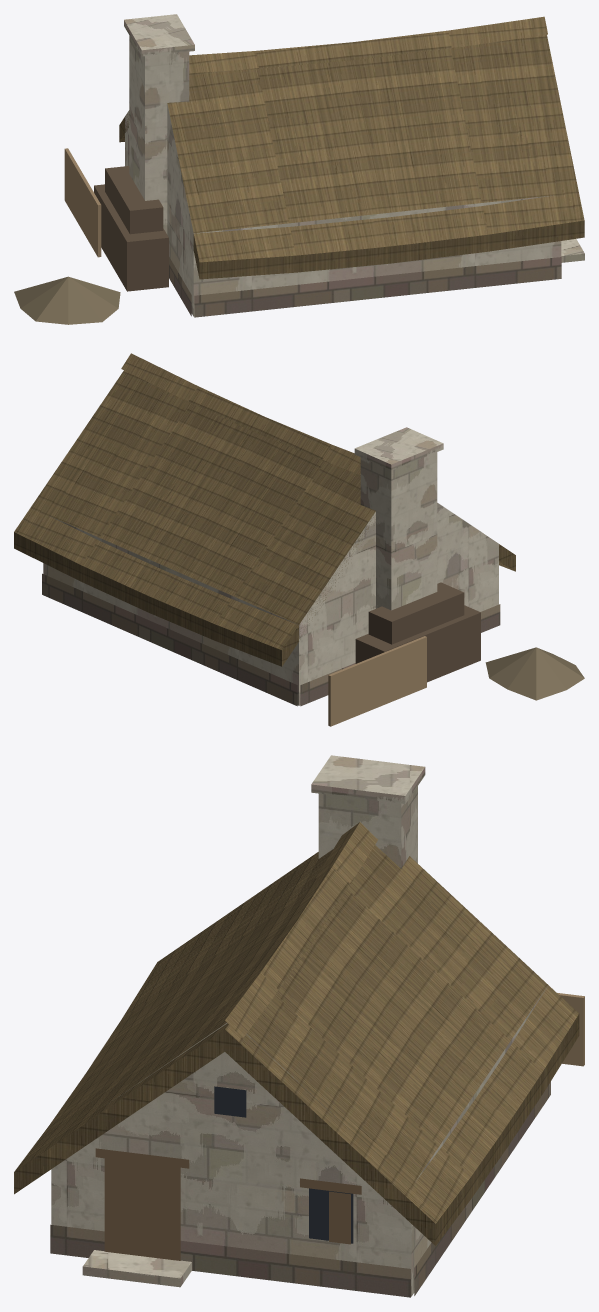
3 renders of one model, top to bottom at view 1: azimuth 30°, elevation 25°; view 2: azimuth 150°, elevation 25°; view 3: azimuth 270°, elevation 25°, orthographic. The views are drawn at different scales.
Parts seen in each view (by area): view 1: b001086_thatch, b001086_wall, b001086_base, b001086_peat, b001086_dung, b001086_wood; view 2: b001086_thatch, b001086_wall, b001086_peat, b001086_base, b001086_wood, b001086_dung; view 3: b001086_thatch, b001086_wall, b001086_base, b001086_oak, b001086_glass, b001086_wood.
Part boxes in pixels (x1,y1,x2,y2): b001086_thatch: (119, 16, 584, 279); b001086_wall: (124, 14, 584, 316); b001086_base: (169, 257, 561, 317); b001086_peat: (94, 166, 168, 291); b001086_dung: (14, 276, 120, 324); b001086_wood: (64, 148, 101, 257); b001086_thatch: (14, 353, 515, 666); b001086_wall: (43, 427, 498, 705); b001086_peat: (355, 582, 480, 682); b001086_base: (42, 573, 500, 706); b001086_wood: (328, 636, 426, 726); b001086_dung: (485, 647, 584, 700); b001086_thatch: (14, 822, 579, 1245); b001086_wall: (51, 755, 547, 1296); b001086_base: (50, 1081, 550, 1297); b001086_oak: (95, 1148, 361, 1260); b001086_glass: (214, 1086, 353, 1243); b001086_wood: (557, 993, 584, 1066).
Bounding box in the file's own units: 10.62 × 4.34 × 7.57.
Materials: 8 (3 with a texture image).
